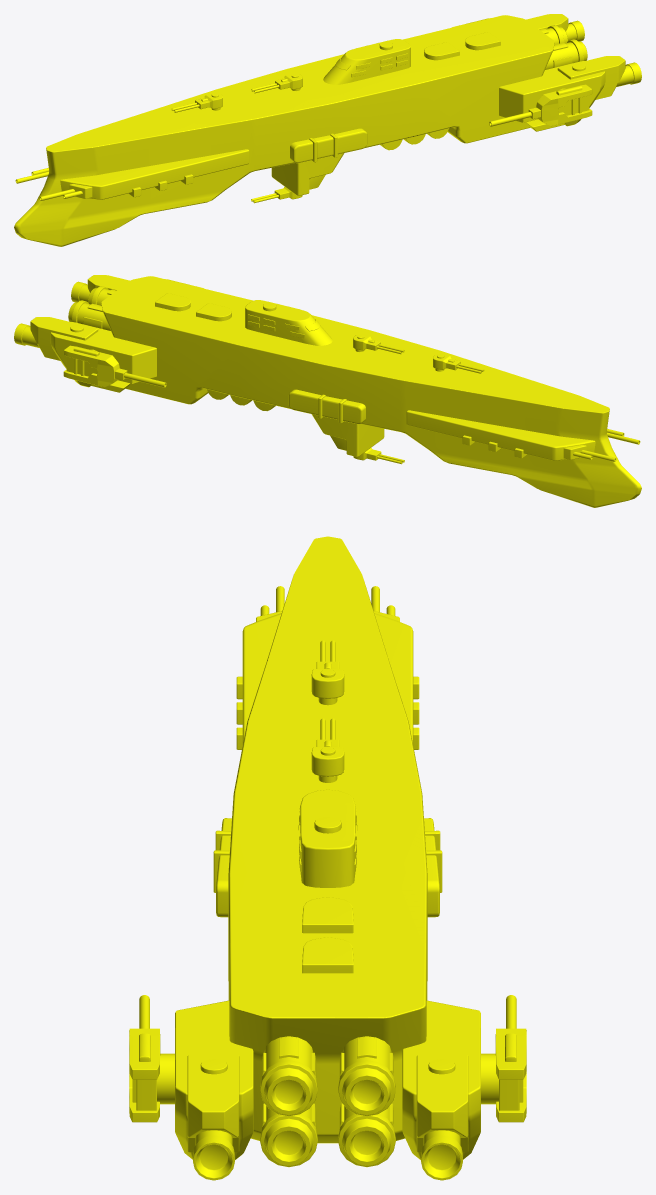
File: destroyer_02.glb
3 views of the same model, one above another, from view 1: azimuth 30°, elevation 25°; view 2: azimuth 150°, elevation 25°; view 3: azimuth 270°, elevation 25° (orthographic). The views are drawn at different scales.
Parts seen in each view (by area): view 1: Destroyer_2; view 2: Destroyer_2; view 3: Destroyer_2.
Boxes of the visible parts, x1=… form: Destroyer_2: x1=14, y1=14, x2=641, y2=246; Destroyer_2: x1=14, y1=275, x2=641, y2=507; Destroyer_2: x1=129, y1=536, x2=526, y2=1180.
Size of the model in its own units: 105 by 21.94 by 30.46.
Materials: 1 (1 with a texture image).
